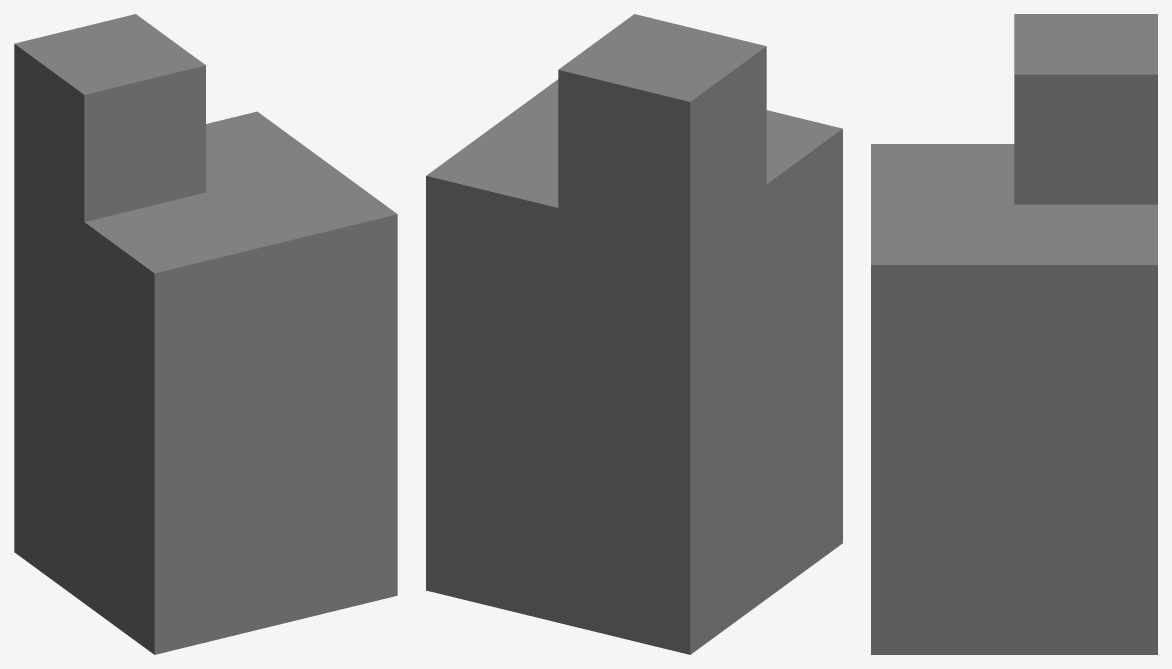
File: kitten__leg_br.obj
The picture shows the model from 3 angles, left to right: view 1: azimuth 30°, elevation 25°; view 2: azimuth 150°, elevation 25°; view 3: azimuth 270°, elevation 25°; orthographic projection. The views are drawn at different scales.
Visible parts, largest first — view 1: kitten__leg_br; view 2: kitten__leg_br; view 3: kitten__leg_br.
Part boxes in pixels (x1,y1,x2,y2): kitten__leg_br: (14,14,397,654); kitten__leg_br: (426,14,842,654); kitten__leg_br: (871,14,1157,654).
Bounding box in the file's own units: 0.2 × 0.4 × 0.2.
Materials: 1 (1 with a texture image).
